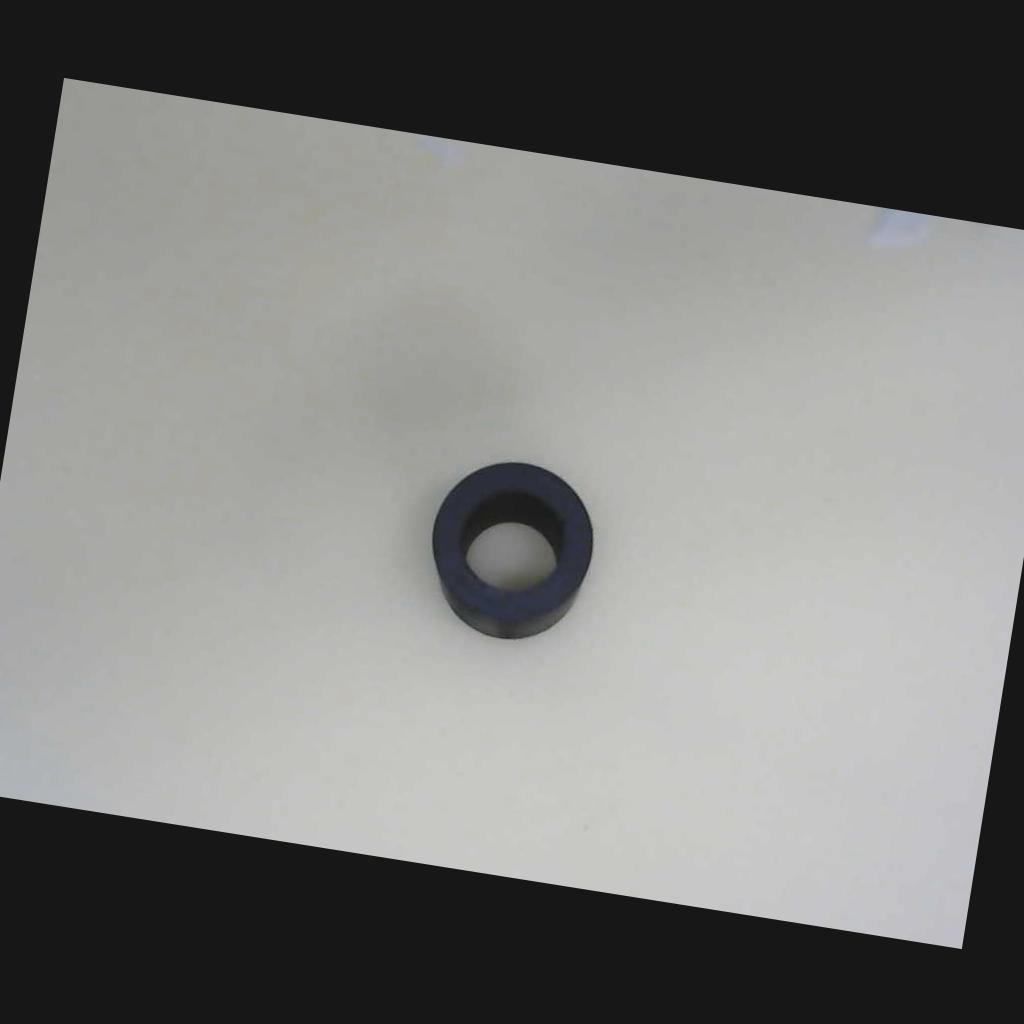ring: (395, 431, 622, 665)
